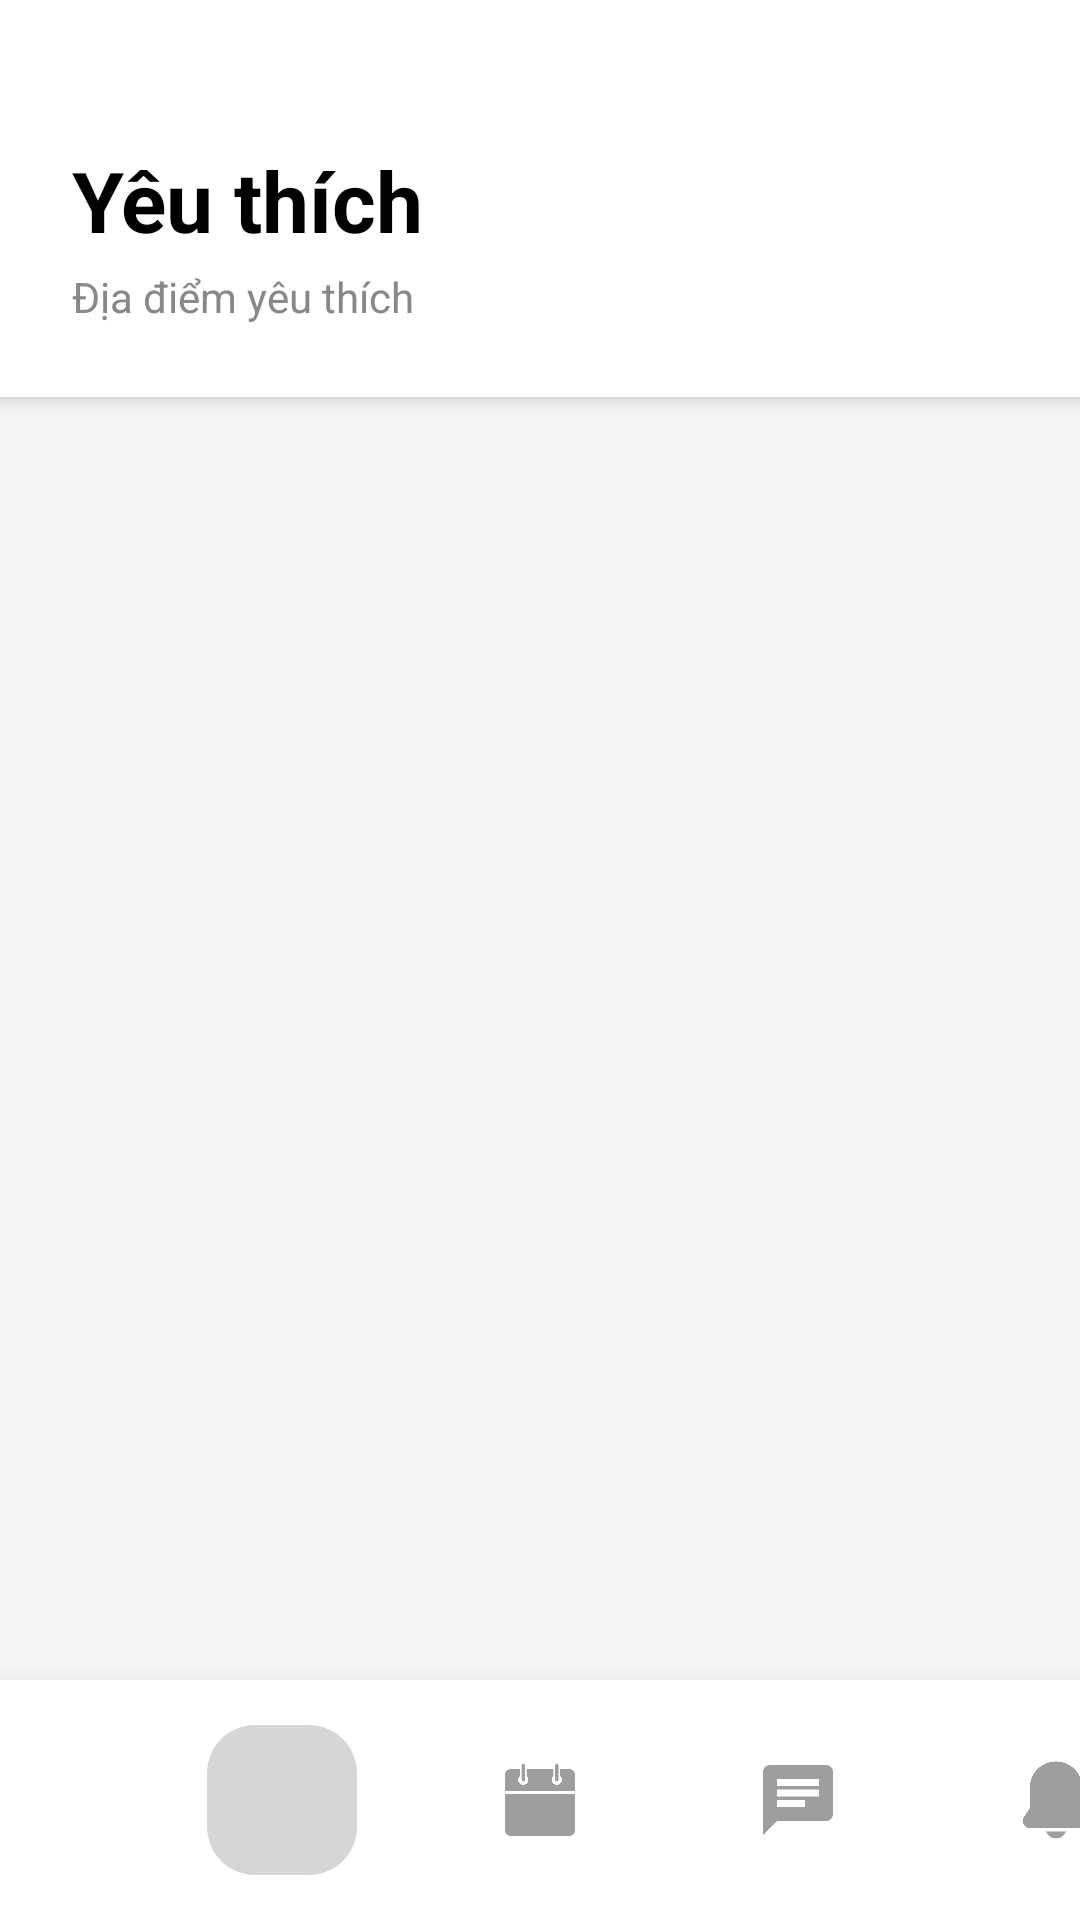

Icons on this 1080*1920 Android screen, each with the point to tap as [x,y]:
calendar: [540,1800]
chat: [798,1800]
